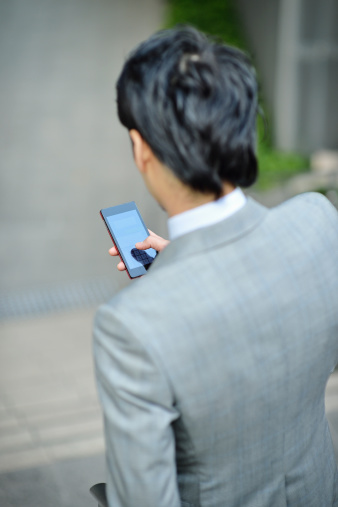em pe: (67, 35, 338, 507)
